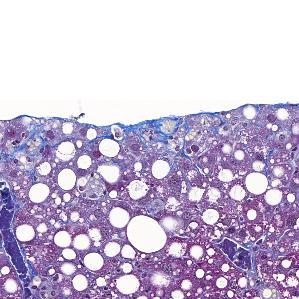fibrosis: (137, 118, 227, 166)
